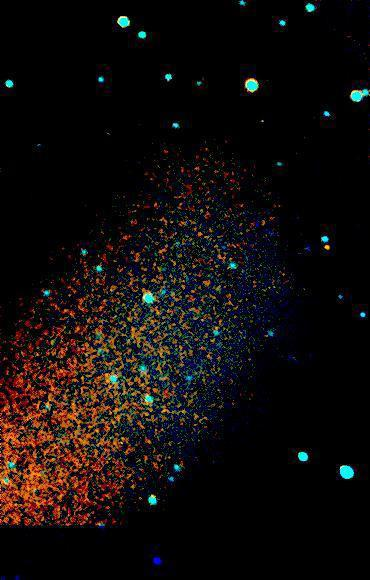star: (312, 231, 342, 261)
